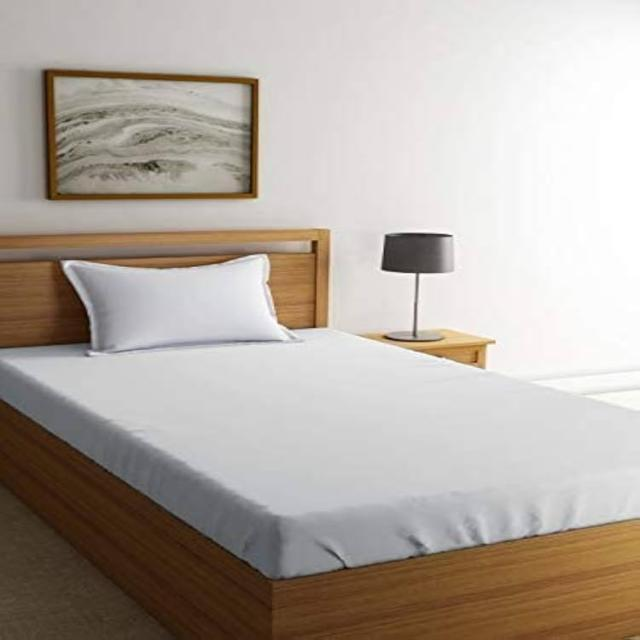bed: (0, 227, 639, 639)
